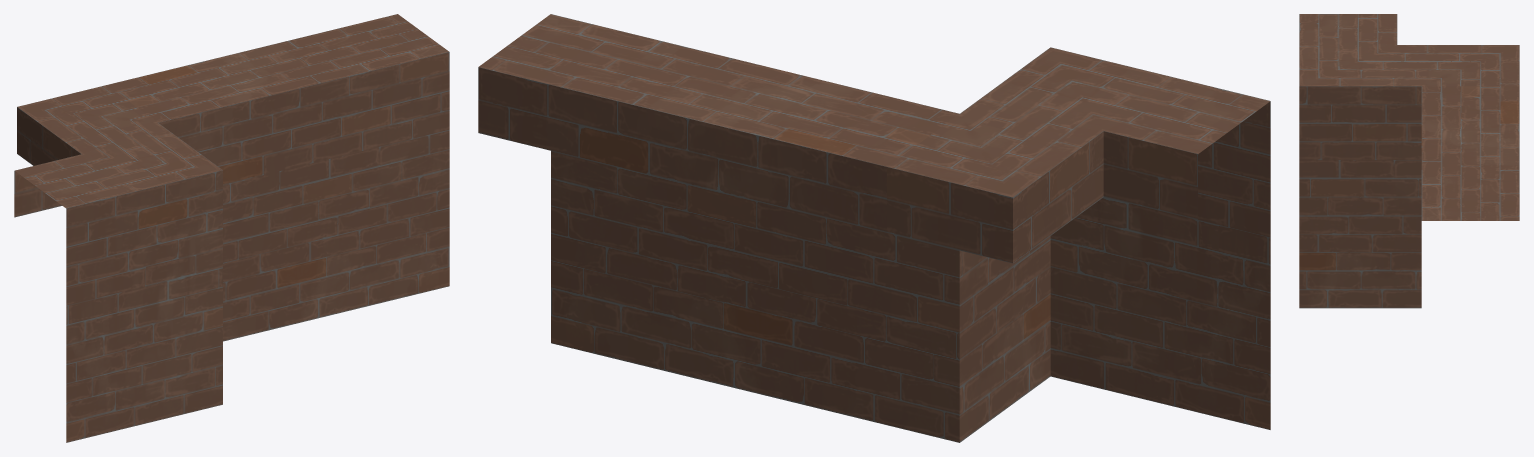
File: Cornice_Brick_90Angle_L.gltf
3 renders of one model, left to right at view 1: azimuth 30°, elevation 25°; view 2: azimuth 150°, elevation 25°; view 3: azimuth 270°, elevation 25°, orthographic. The views are drawn at different scales.
Visible parts, largest first — view 1: Cornice_Brick_90Angle_L; view 2: Cornice_Brick_90Angle_L; view 3: Cornice_Brick_90Angle_L.
Part boxes in pixels (bbox=[...]): Cornice_Brick_90Angle_L: bbox=[14, 14, 449, 442]; Cornice_Brick_90Angle_L: bbox=[478, 14, 1270, 442]; Cornice_Brick_90Angle_L: bbox=[1299, 14, 1519, 308].
Bounding box in the file's own units: 2 × 1 × 0.9.
1 material, 1 textured.
